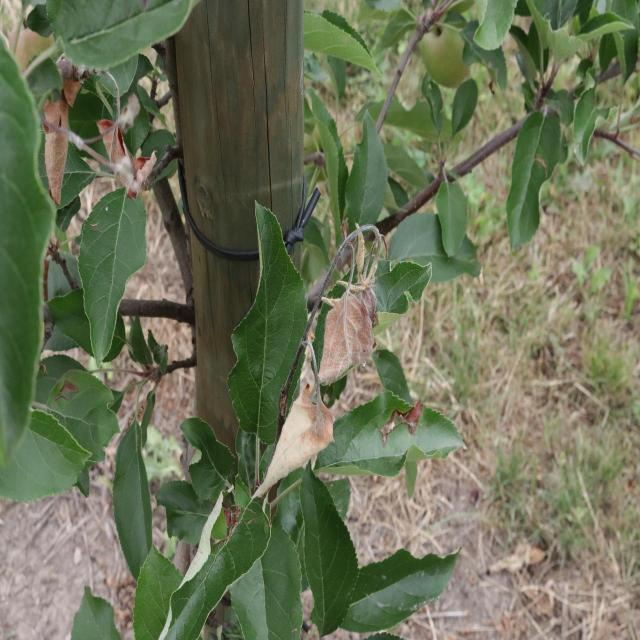-FireBlight-: (298, 212, 390, 431), (40, 76, 144, 184), (264, 391, 332, 480)
